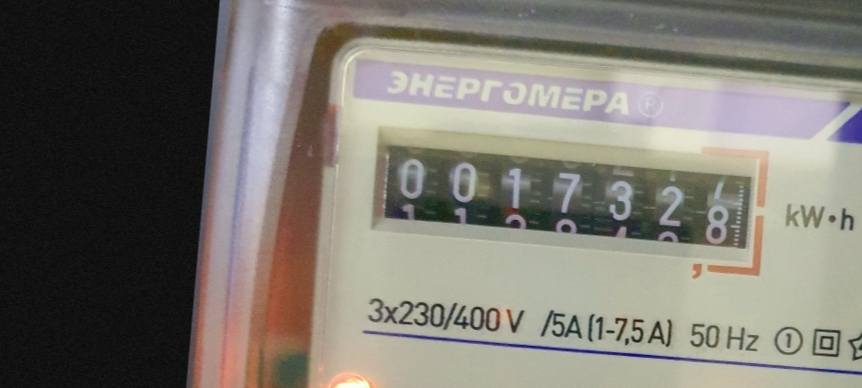0: (395, 156, 430, 202), (449, 158, 481, 206)
1: (502, 164, 528, 212)
2: (654, 183, 687, 230)
3: (606, 178, 636, 223)
7: (552, 169, 583, 218)
8: (702, 203, 731, 247)
screen: (359, 119, 779, 282)
